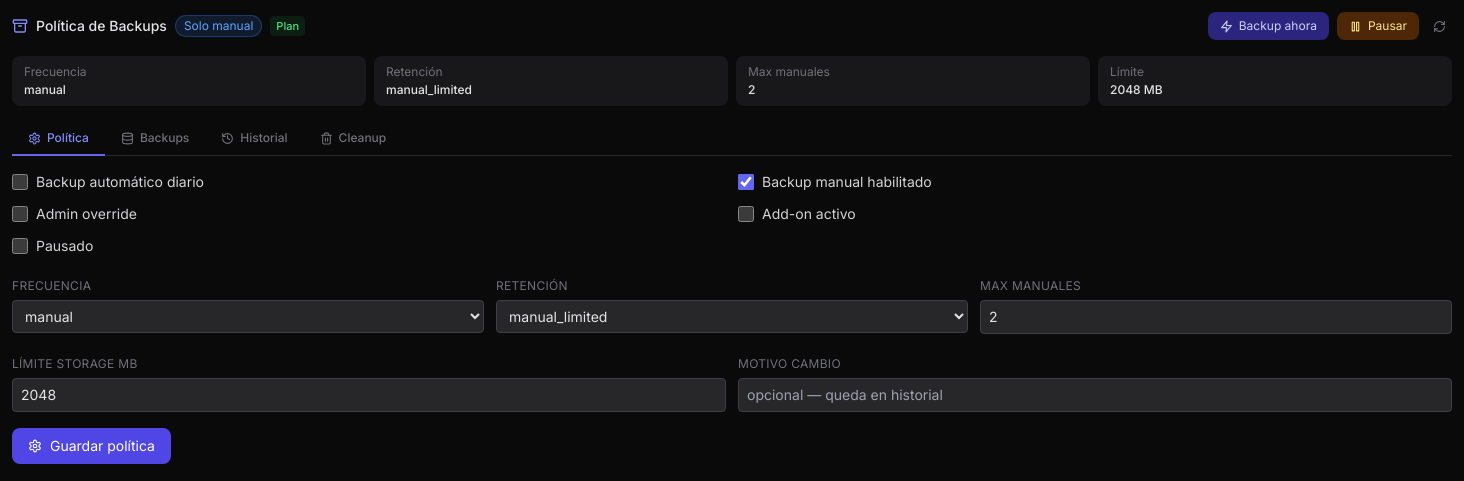
Test: BackupPolicyPanel — error handling › 10 — renders with backups=[] without crashing
expect the text "Política de Backups" is shown: met, box [36,16,167,36]
What coordinates should you click on to do the following:
click the button "Backups"
I would click on:
 (155, 139)
Its box is [105,122,205,156].
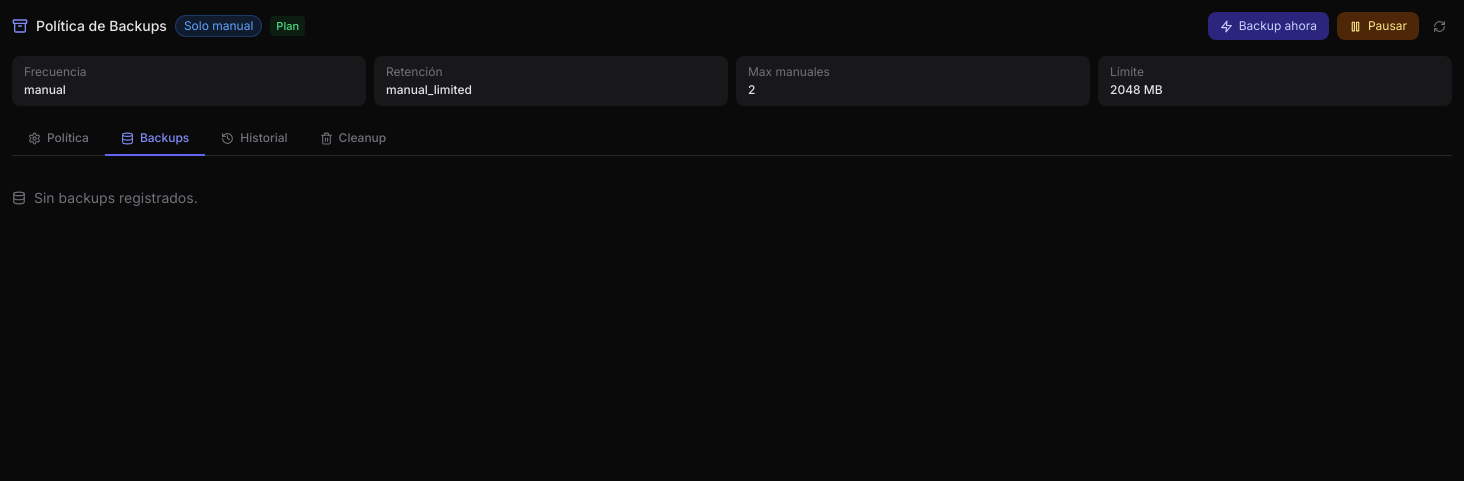
expect the text "Sin backups registrados." is shown: met, box [12,189,198,206]
